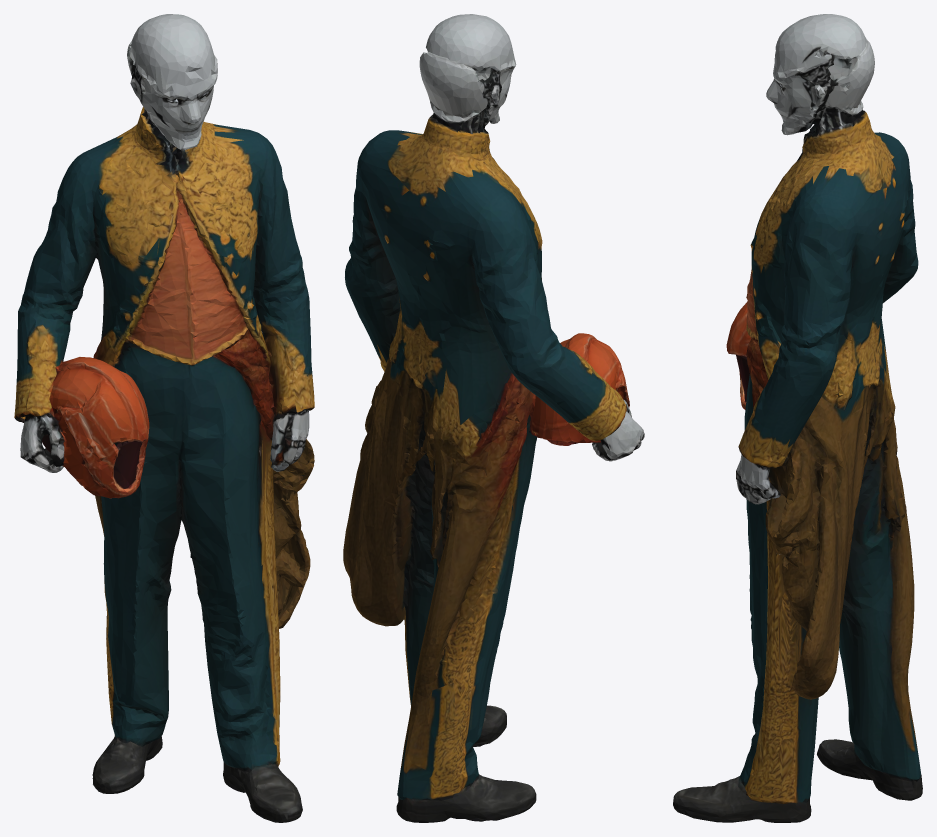
File: newscene.glb
3 views of the same model, side by side, from view 1: azimuth 30°, elevation 25°; view 2: azimuth 150°, elevation 25°; view 3: azimuth 270°, elevation 25° (orthographic).
Parts seen in each view (by area): view 1: tripo_node_f875dcff-99cd-4471-be17-70973e1d8990; view 2: tripo_node_f875dcff-99cd-4471-be17-70973e1d8990; view 3: tripo_node_f875dcff-99cd-4471-be17-70973e1d8990.
Boxes of the visible parts, left/top/right/bottom form: tripo_node_f875dcff-99cd-4471-be17-70973e1d8990: left=14, top=14, right=314, bottom=822; tripo_node_f875dcff-99cd-4471-be17-70973e1d8990: left=343, top=14, right=644, bottom=822; tripo_node_f875dcff-99cd-4471-be17-70973e1d8990: left=673, top=14, right=922, bottom=822.
Size of the model in its own units: 0.3953 by 1 by 0.2932.
Materials: 1 (1 with a texture image).
